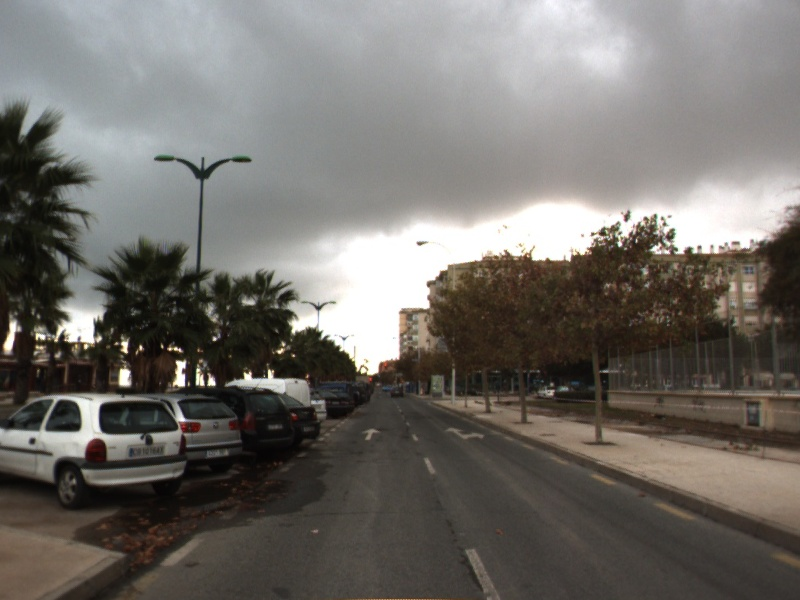STRAIGHT: (360, 426, 383, 442)
STRAIGHT_RIGHT: (443, 426, 486, 441)
